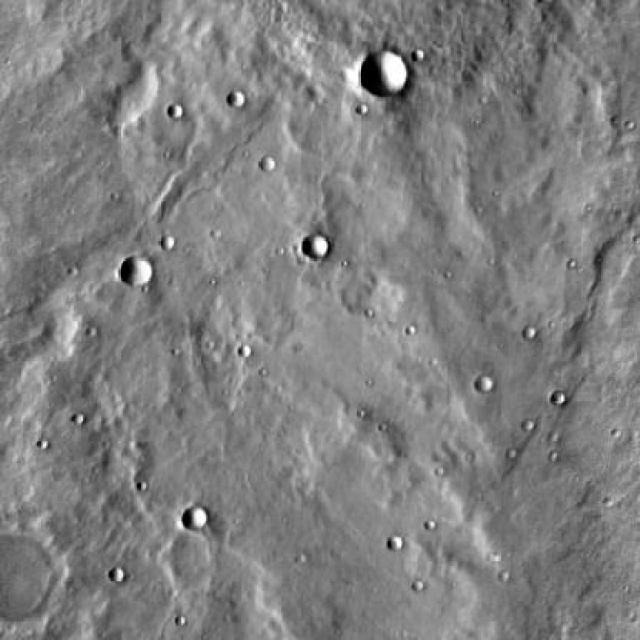crater: (0, 524, 69, 634), (363, 52, 414, 102), (121, 260, 154, 292), (305, 237, 329, 261), (186, 510, 209, 532), (474, 374, 491, 391), (258, 154, 274, 172), (227, 92, 244, 108), (106, 568, 123, 583), (169, 104, 183, 116)
